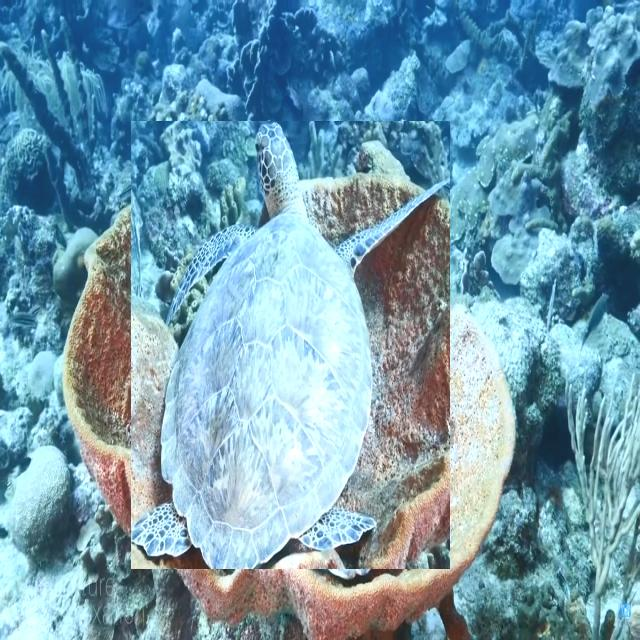Sea turtle: (131, 121, 450, 569)
